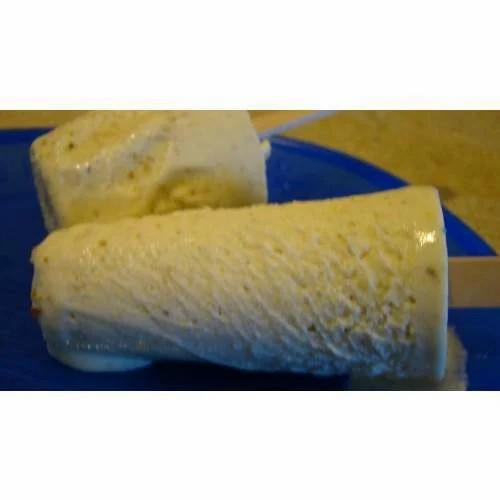Kulfi: (35, 184, 448, 386), (27, 108, 269, 230)
